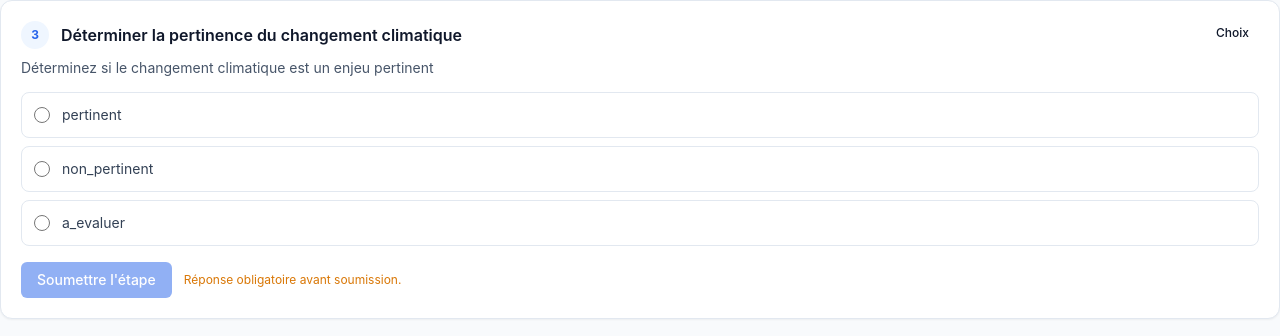
WorkflowStep — choix avec garde-fou › « pertinent » : soumission possible sans justification, valeur = chaîne
Click the radio button labelled "pertinent" at x=42, y=115, box [34,107,50,123]
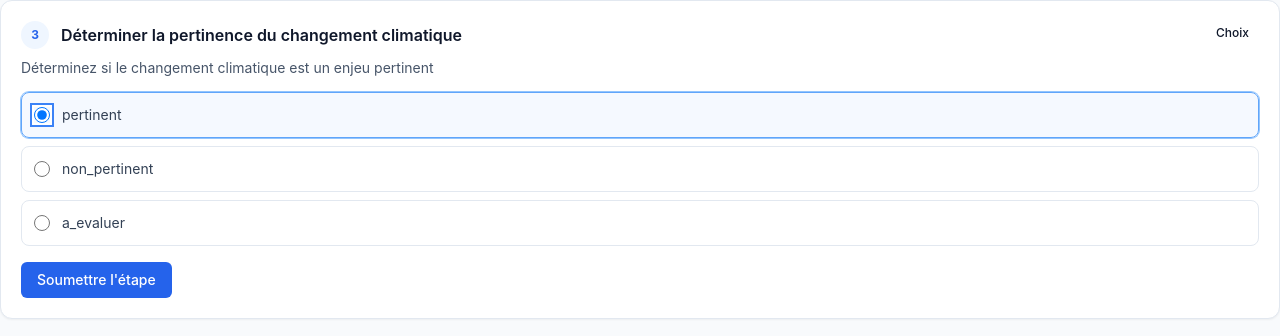
Expected: the button "Soumettre l'étape" is enabled, [21,262,172,298]
